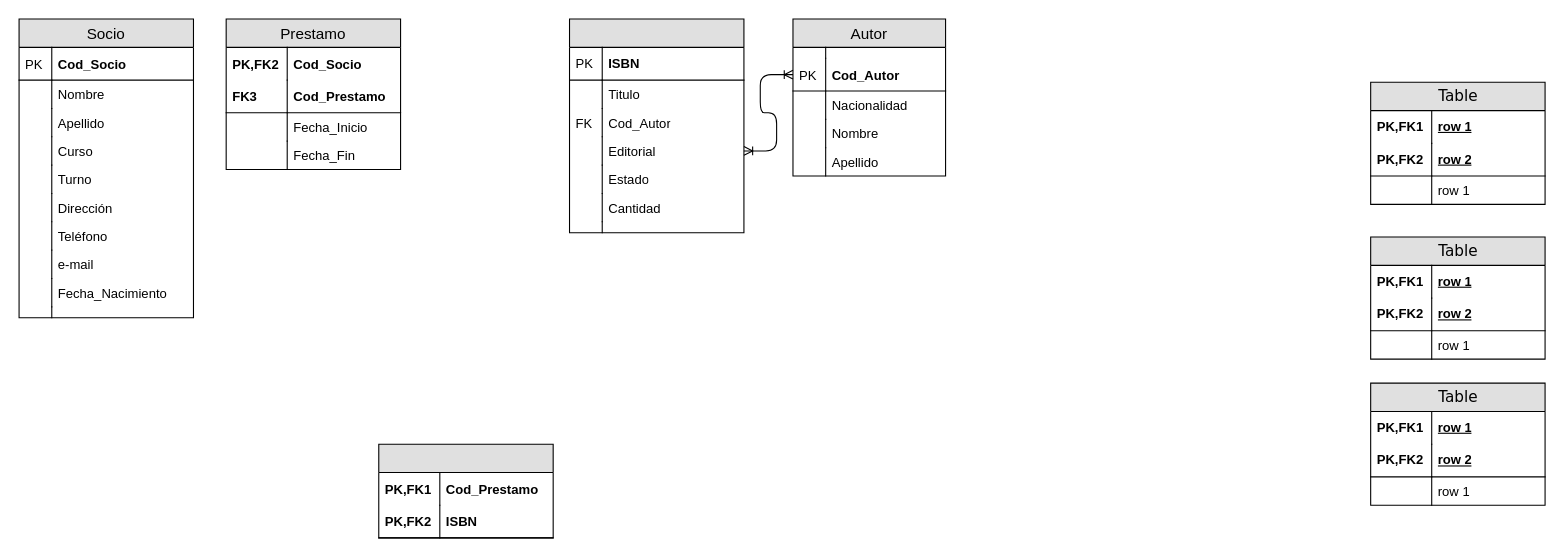
The diagram is 1564 pixels wide and 557 high, and some of its shapes have lost their labels. Each missing label, with the box of its shape:
Libro: (568, 18, 744, 233)
Prestamo_Libro: (378, 443, 553, 538)
